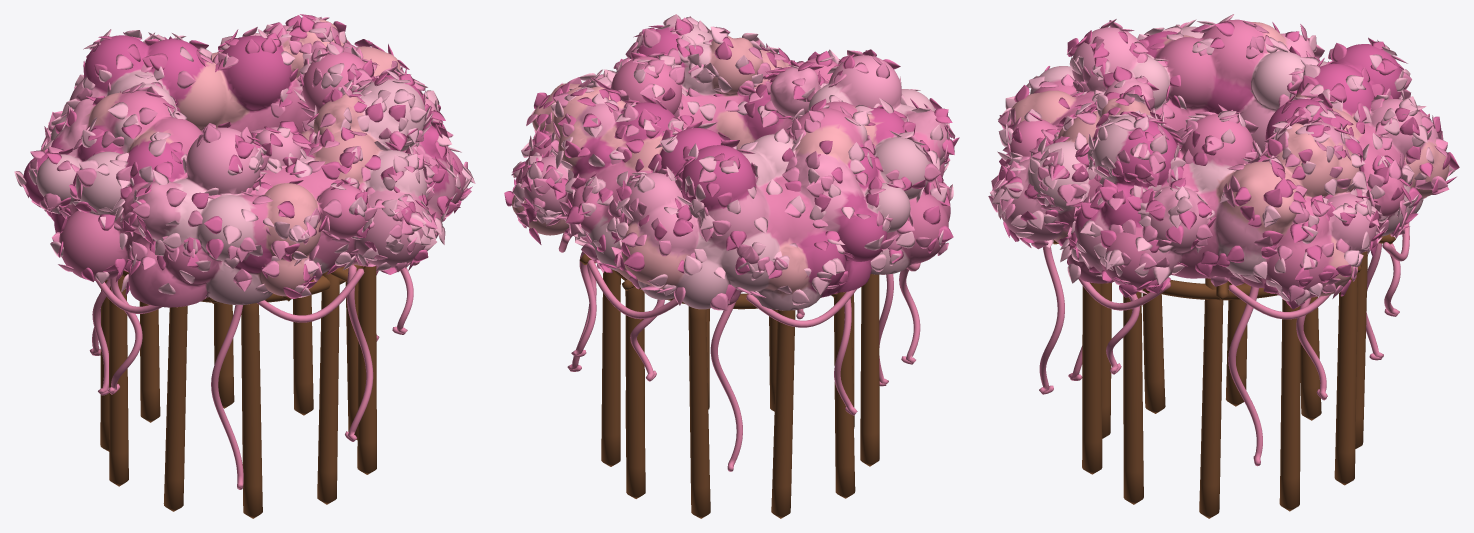
The model's file is caramanchao.glb.
3 views of the same model, side by side, from view 1: azimuth 30°, elevation 25°; view 2: azimuth 150°, elevation 25°; view 3: azimuth 270°, elevation 25° (orthographic). The views are drawn at different scales.
Parts seen in each view (by area): view 1: copa, petalas, estrutura, cipos; view 2: copa, petalas, estrutura, cipos; view 3: copa, petalas, estrutura, cipos.
Part boxes in pixels (x1,y1,x2,y2): copa: [23, 19, 465, 307]; petalas: [14, 14, 475, 298]; estrutura: [100, 264, 376, 518]; cipos: [89, 261, 419, 489]; copa: [512, 24, 950, 310]; petalas: [504, 14, 959, 310]; estrutura: [579, 254, 879, 518]; cipos: [558, 232, 920, 471]; copa: [1000, 19, 1449, 298]; petalas: [988, 14, 1459, 309]; estrutura: [1053, 234, 1395, 518]; cipos: [1039, 223, 1409, 466].
Bounding box in the file's own units: 4.28 × 4.18 × 4.42.
